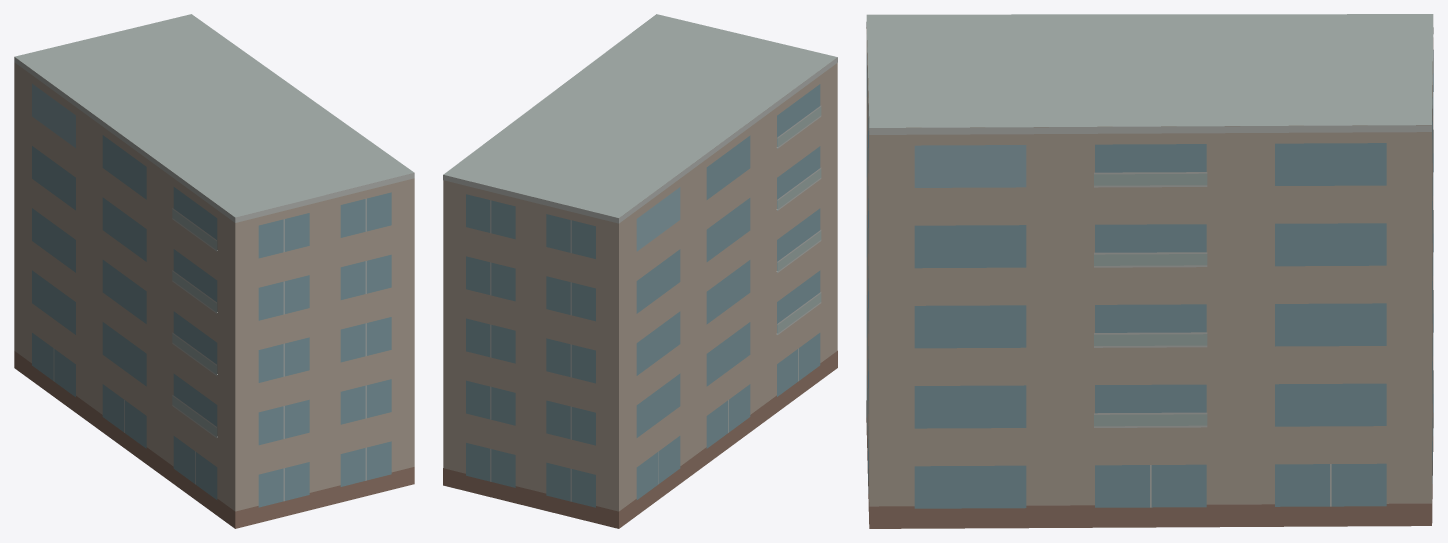
Rendered from survey-upis-32848305.glb.
The picture shows the model from 3 angles, left to right: view 1: azimuth 30°, elevation 25°; view 2: azimuth 150°, elevation 25°; view 3: azimuth 270°, elevation 25°; orthographic projection. The views are drawn at different scales.
Visible parts, largest first — view 1: survey-upis-32848305.tmp; view 2: survey-upis-32848305.tmp; view 3: survey-upis-32848305.tmp.
Boxes of the visible parts, box(x1,y1,x2,y2) form: survey-upis-32848305.tmp: box(14, 14, 414, 528); survey-upis-32848305.tmp: box(443, 14, 837, 528); survey-upis-32848305.tmp: box(866, 14, 1433, 528).
Bounding box in the file's own units: 8.49 × 13.9 × 17.83.
